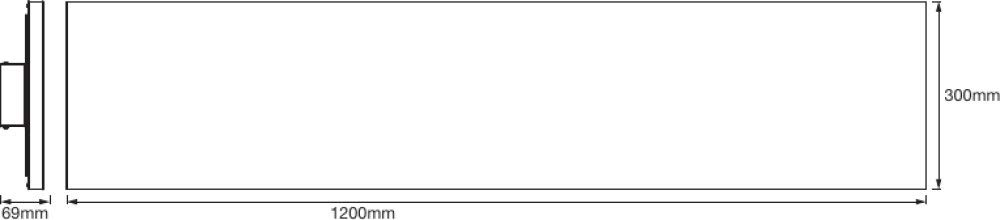300mm: (945, 89, 1000, 101)
